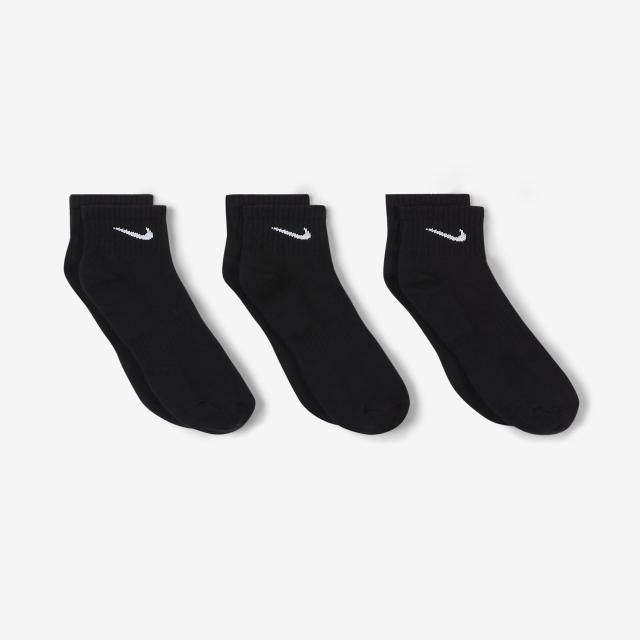sock: (382, 193, 580, 435), (63, 193, 255, 435), (221, 193, 410, 435)
